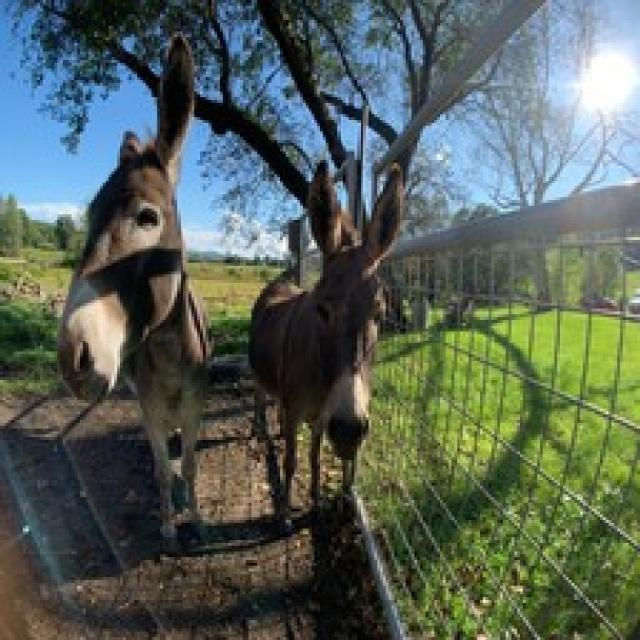Donkey: (47, 15, 218, 544), (244, 154, 388, 552)
